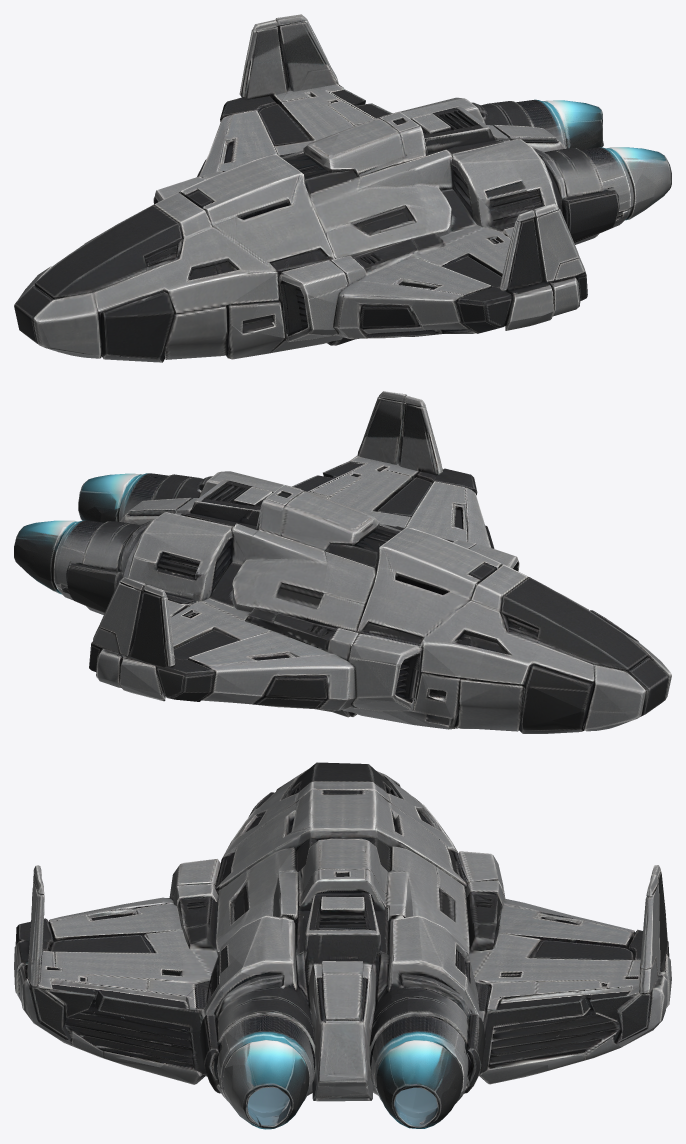
Rendered from ship.glb.
The picture shows the model from 3 angles, top to bottom: view 1: azimuth 30°, elevation 25°; view 2: azimuth 150°, elevation 25°; view 3: azimuth 270°, elevation 25°; orthographic projection. The views are drawn at different scales.
Parts seen in each view (by area): view 1: Mesh_0; view 2: Mesh_0; view 3: Mesh_0.
Part boxes in pixels (x1,y1,x2,y2): Mesh_0: (14,14,671,362); Mesh_0: (14,391,671,733); Mesh_0: (14,762,671,1129).
Bounding box in the file's own units: 1.9 × 0.5339 × 1.5.
Materials: 1 (1 with a texture image).
